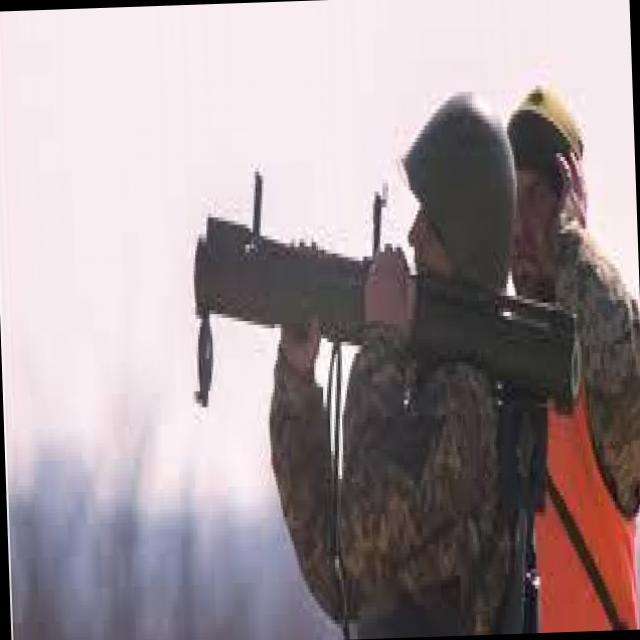rocket: (193, 198, 585, 425)
